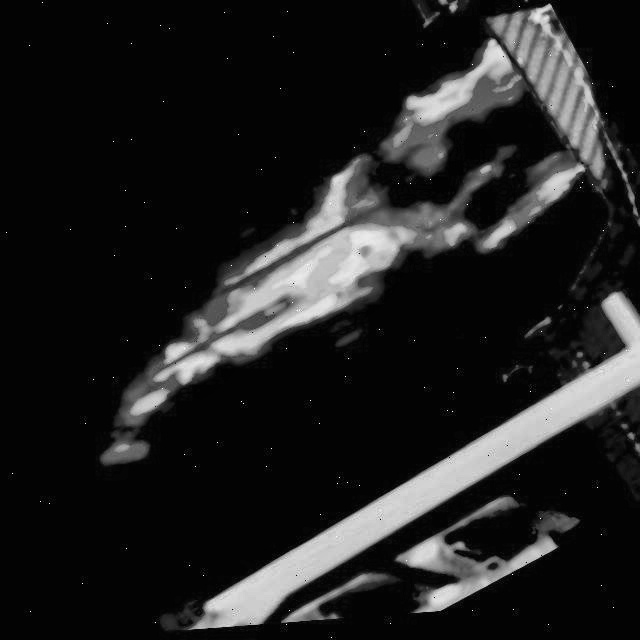Fire: (9, 36, 606, 456)
